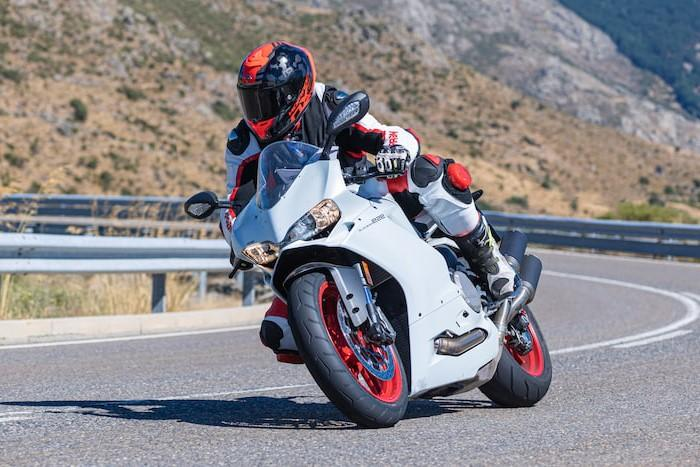motorcycle: (183, 87, 571, 423)
